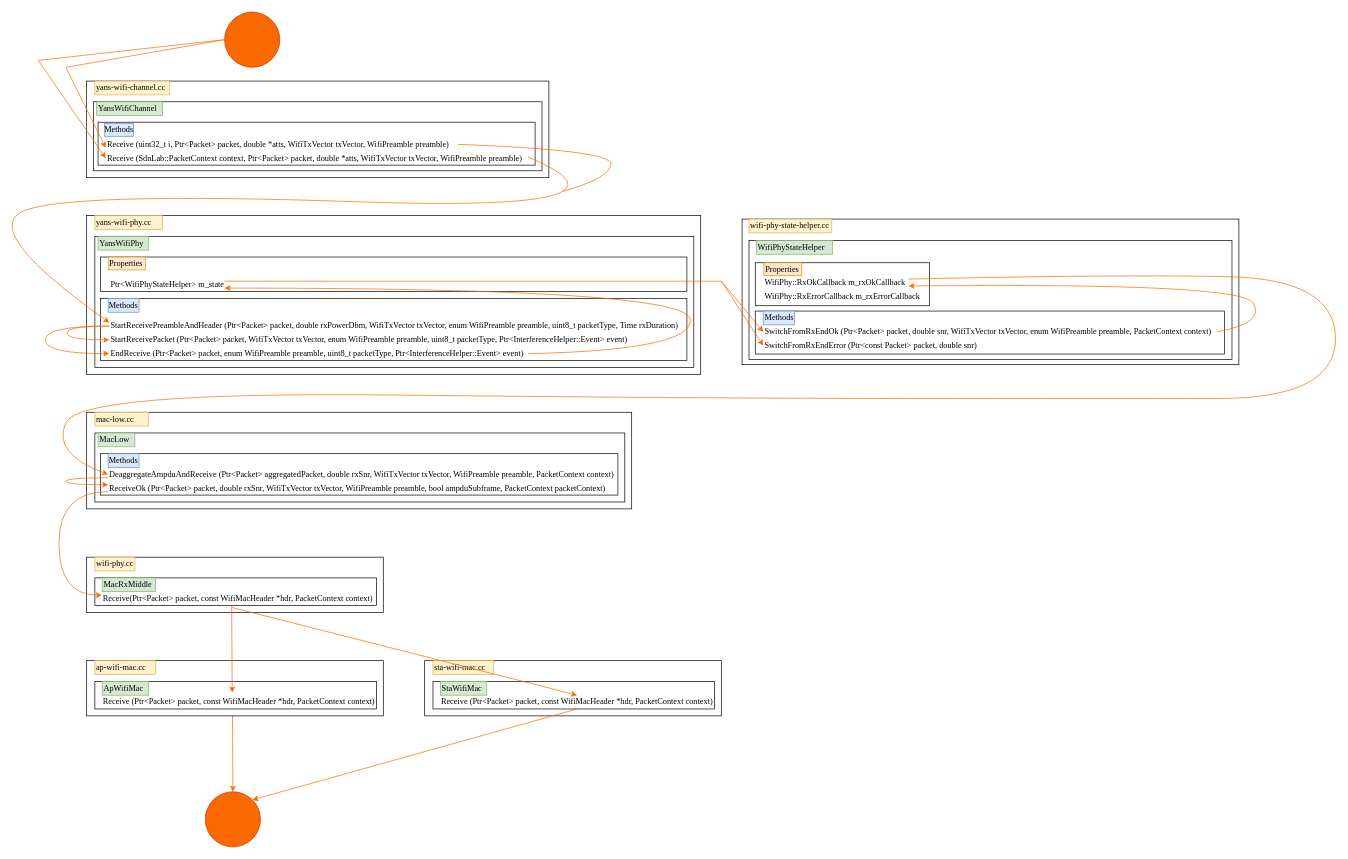
The diagram is 1348 pixels wide and 859 high, and some of its shapes have lost their labels. The centre of each missing label's shape, as x and y in pixels:
END: [232,819]
START: [252,39]
